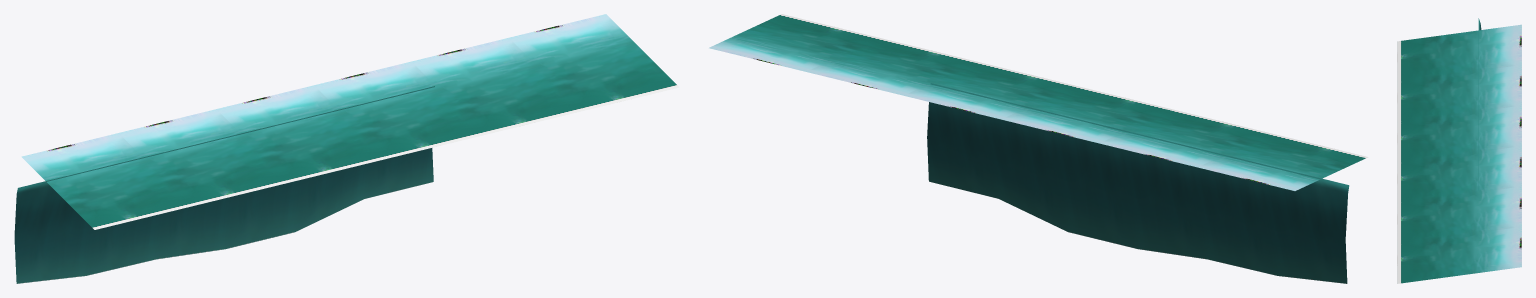
Rendered from Water BG_2.FBX.
3 views of the same model, side by side, from view 1: azimuth 30°, elevation 25°; view 2: azimuth 150°, elevation 25°; view 3: azimuth 270°, elevation 25° (orthographic). The views are drawn at different scales.
Visible parts, largest first — view 1: LVL 12 Water Horizon_2, LVL12 Underwater BG_2; view 2: LVL12 Underwater BG_2, LVL 12 Water Horizon_2; view 3: LVL 12 Water Horizon_2, LVL12 Underwater BG_2.
Boxes of the visible parts, x1,y1,x2,y2 form: LVL 12 Water Horizon_2: (21,14,679,229); LVL12 Underwater BG_2: (14,86,434,283); LVL12 Underwater BG_2: (927,83,1349,283); LVL 12 Water Horizon_2: (709,14,1368,190); LVL 12 Water Horizon_2: (1397,24,1521,283); LVL12 Underwater BG_2: (1478,18,1481,190).
Bounding box in the file's own units: 15106 × 3129 × 2805.
